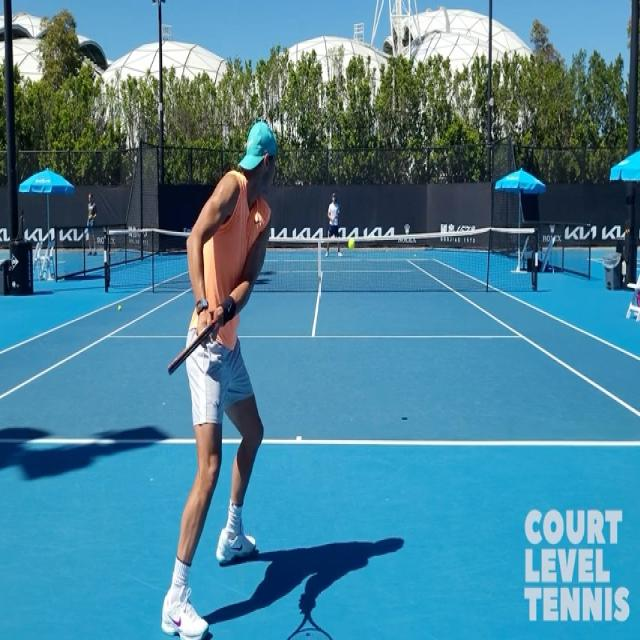backhand-ready: (166, 119, 276, 613)
